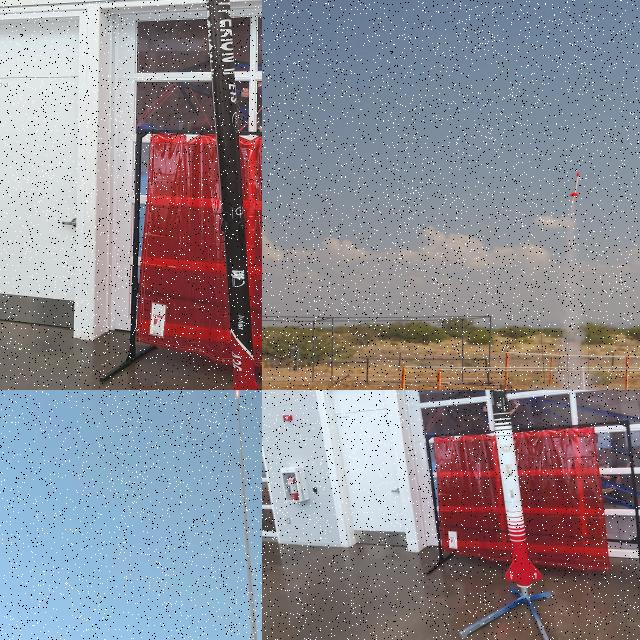Rocket: (206, 0, 261, 390), (490, 390, 542, 586), (570, 172, 580, 197)
